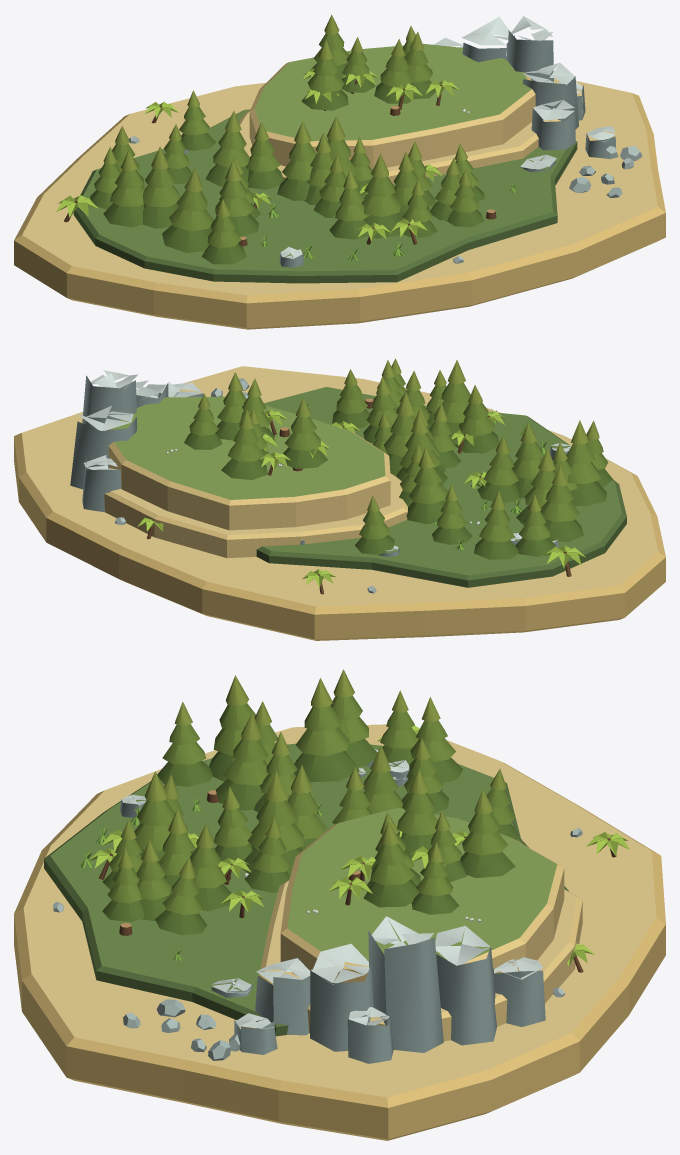
File: pine-island.glb
The picture shows the model from 3 angles, top to bottom: view 1: azimuth 30°, elevation 25°; view 2: azimuth 150°, elevation 25°; view 3: azimuth 270°, elevation 25°; orthographic projection. The views are drawn at different scales.
Parts seen in each view (by area): view 1: beach, grass_lower, grass_upper, pine_low_19, sand_terrace, cliff_1, pine_low_12, pine_low_3, pine_low_17, cliff_3, cliff_2, pine_low_22 (+26 smaller); view 2: beach, grass_upper, grass_lower, sand_terrace, cliff_0, cliff_1, pine_low_19, pine_low_11, pine_low_17, pine_up_0, pine_up_3, pine_low_20 (+26 smaller); view 3: beach, grass_lower, grass_upper, cliff_1, cliff_0, cliff_2, sand_terrace, pine_low_12, cliff_3, cliff_4, pine_up_3, pine_low_25 (+28 smaller).
Part boxes in pixels (<box>): beach: <box>14,78,665,329</box>; grass_lower: <box>73,109,577,283</box>; grass_upper: <box>249,43,535,169</box>; pine_low_19: <box>162,168,213,252</box>; sand_terrace: <box>239,109,560,183</box>; cliff_1: <box>507,16,553,81</box>; pine_low_12: <box>143,146,180,228</box>; pine_low_3: <box>361,154,403,238</box>; pine_low_17: <box>103,149,144,227</box>; cliff_3: <box>531,100,575,150</box>; cliff_2: <box>522,62,578,129</box>; pine_low_22: <box>277,121,316,200</box>; beach: <box>14,366,665,640</box>; grass_upper: <box>108,396,390,530</box>; grass_lower: <box>256,387,626,587</box>; sand_terrace: <box>104,473,407,558</box>; cliff_0: <box>70,406,136,489</box>; cliff_1: <box>82,370,137,430</box>; pine_low_19: <box>566,420,606,506</box>; pine_low_11: <box>406,447,447,524</box>; pine_low_17: <box>541,464,583,541</box>; pine_up_0: <box>280,398,327,468</box>; pine_up_3: <box>221,409,267,479</box>; pine_low_20: <box>474,490,518,559</box>; beach: <box>14,724,665,1140</box>; grass_lower: <box>44,743,568,1036</box>; grass_upper: <box>280,808,564,982</box>; cliff_1: <box>368,916,443,1052</box>; cliff_0: <box>435,926,496,1045</box>; cliff_2: <box>310,943,373,1051</box>; sand_terrace: <box>259,879,582,1041</box>; pine_low_12: <box>294,678,359,782</box>; cliff_3: <box>255,958,310,1035</box>; cliff_4: <box>493,957,545,1026</box>; pine_up_3: <box>460,789,515,877</box>; pine_low_25: <box>215,713,268,810</box>.
Size of the model in its own units: 47.31 by 11.01 by 34.1.
